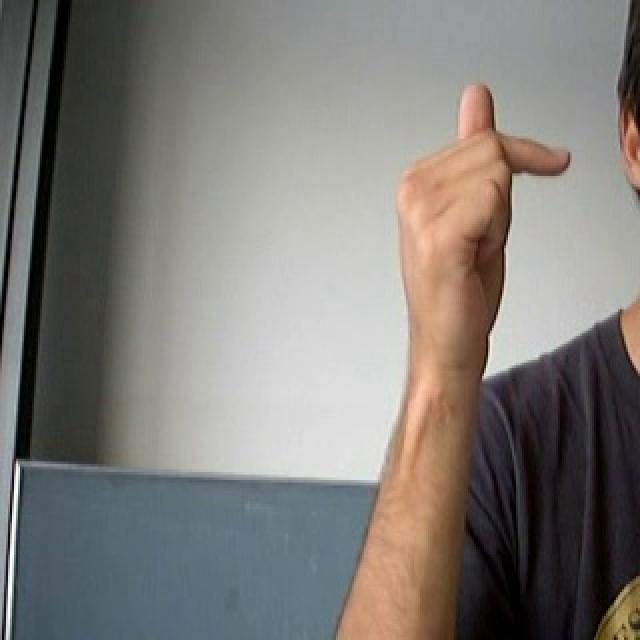T: (381, 79, 591, 352)
